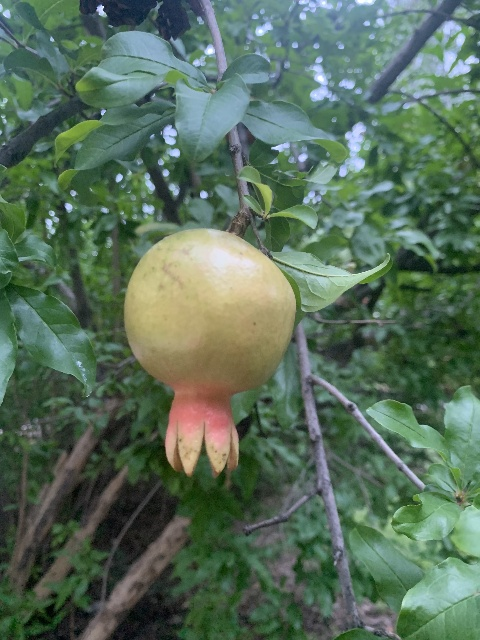mid-growth: (122, 229, 296, 478)
